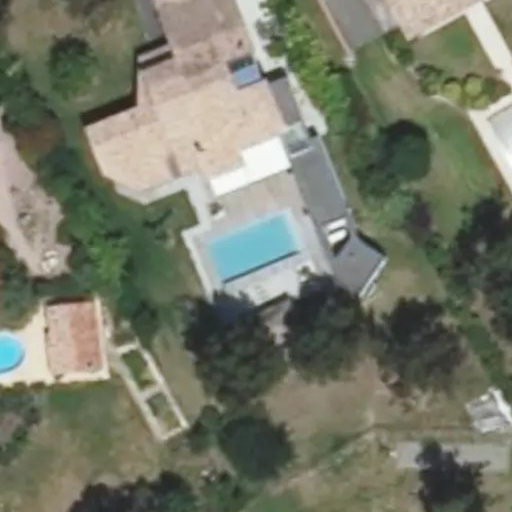pool: (198, 221, 306, 246)
